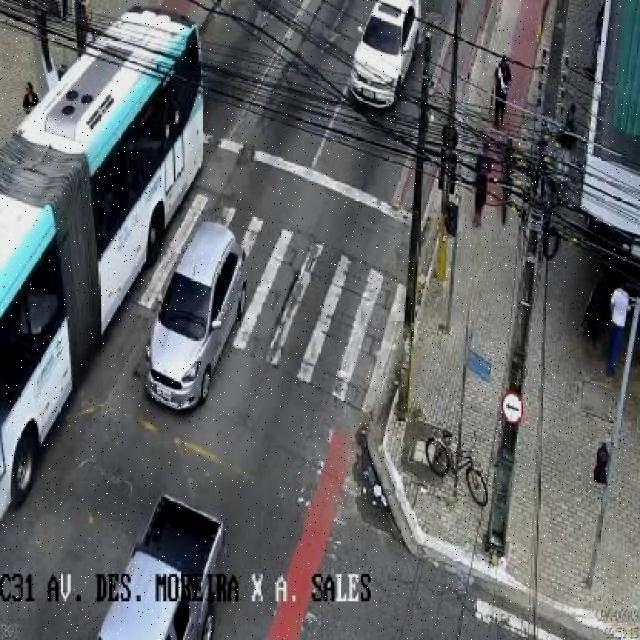Bus: (0, 0, 208, 526)
Car: (136, 220, 252, 412), (348, 0, 428, 112)
Cycle: (424, 429, 491, 507)
Truck: (97, 491, 226, 640)
